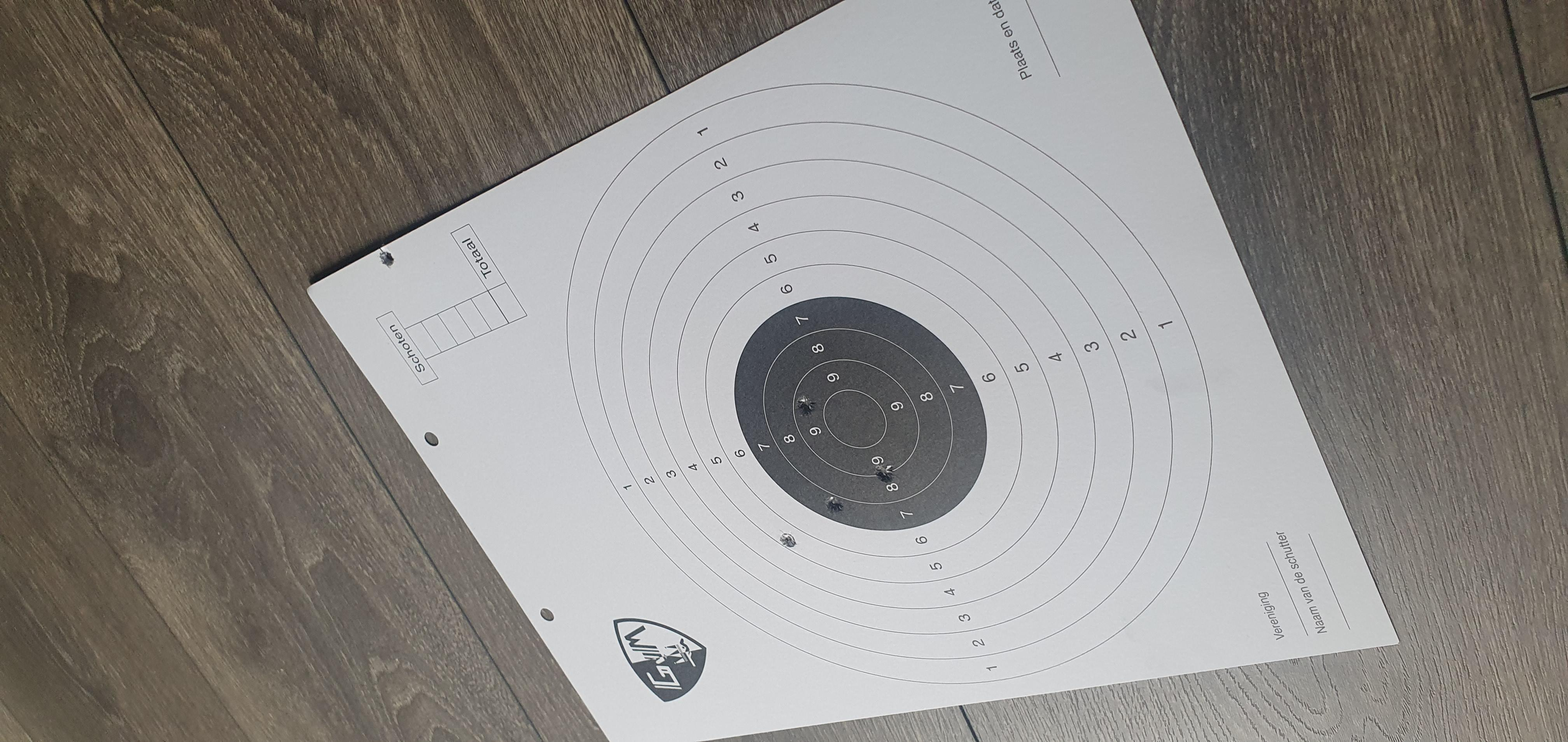hole: (684, 377, 743, 387), (1003, 177, 1055, 188), (544, 413, 592, 424), (405, 367, 447, 377), (482, 390, 524, 399)
